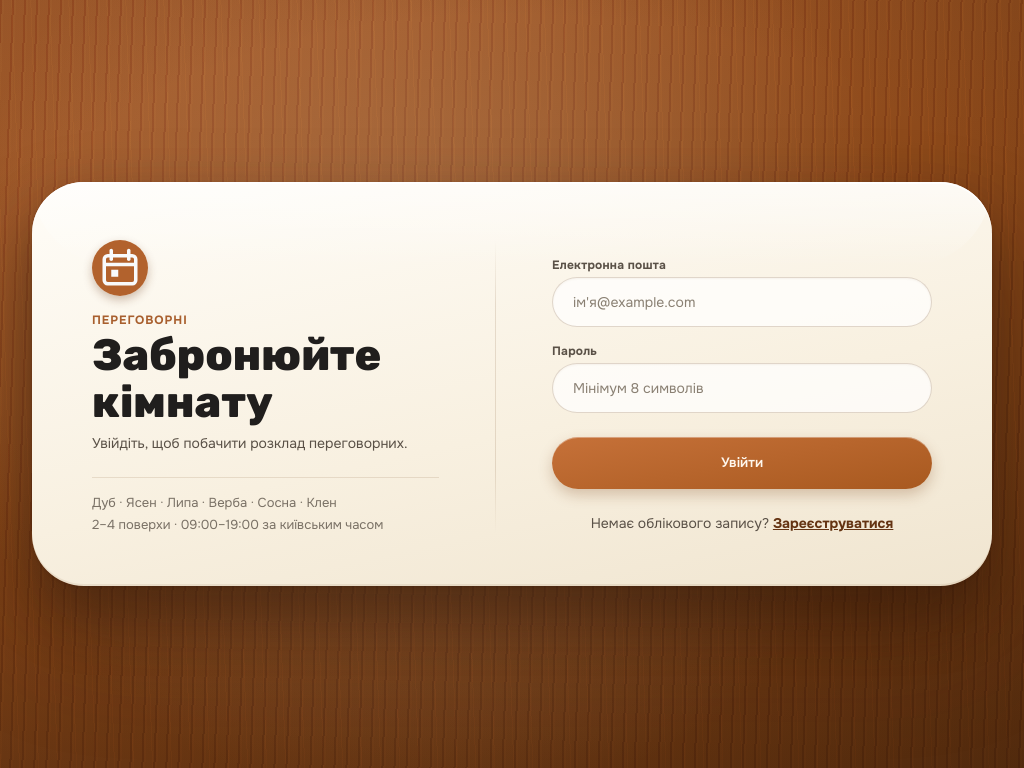
it: server-side errors › shows a 401 message as a form-level error rather than on a field
Type "ivan@example.com" into the field labelled "Електронна пошта" at (742,302), box [552,277,932,327]
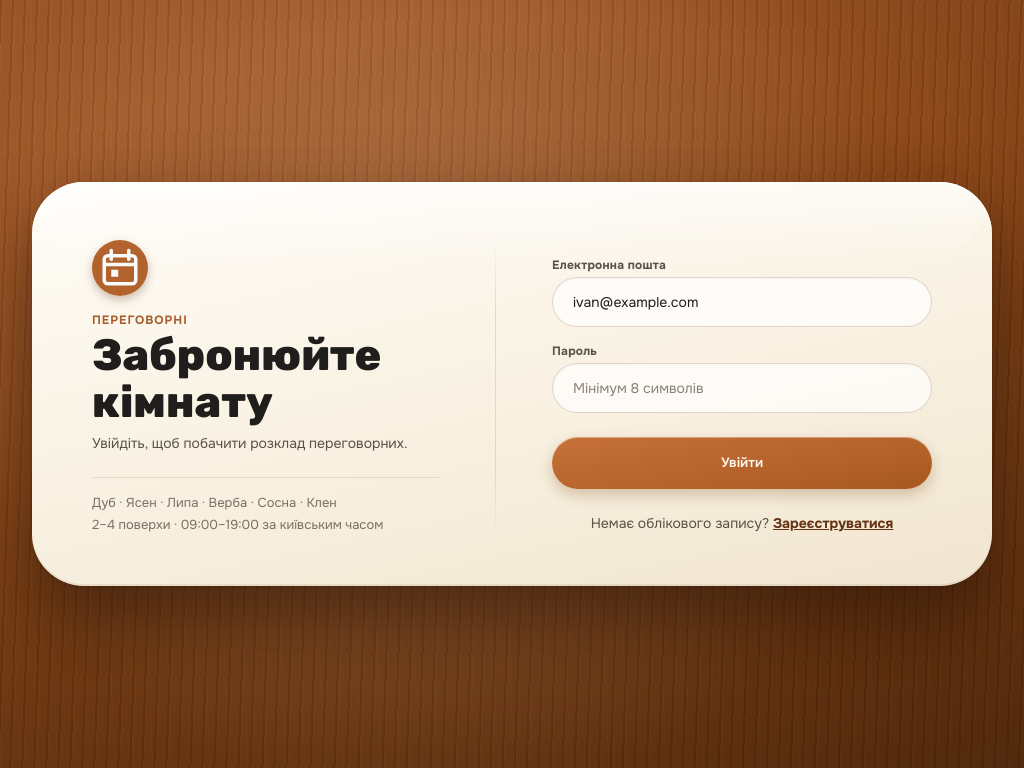
Type "super-secret" into the password field labelled "Пароль" at (742,388), box [552,363,932,413]
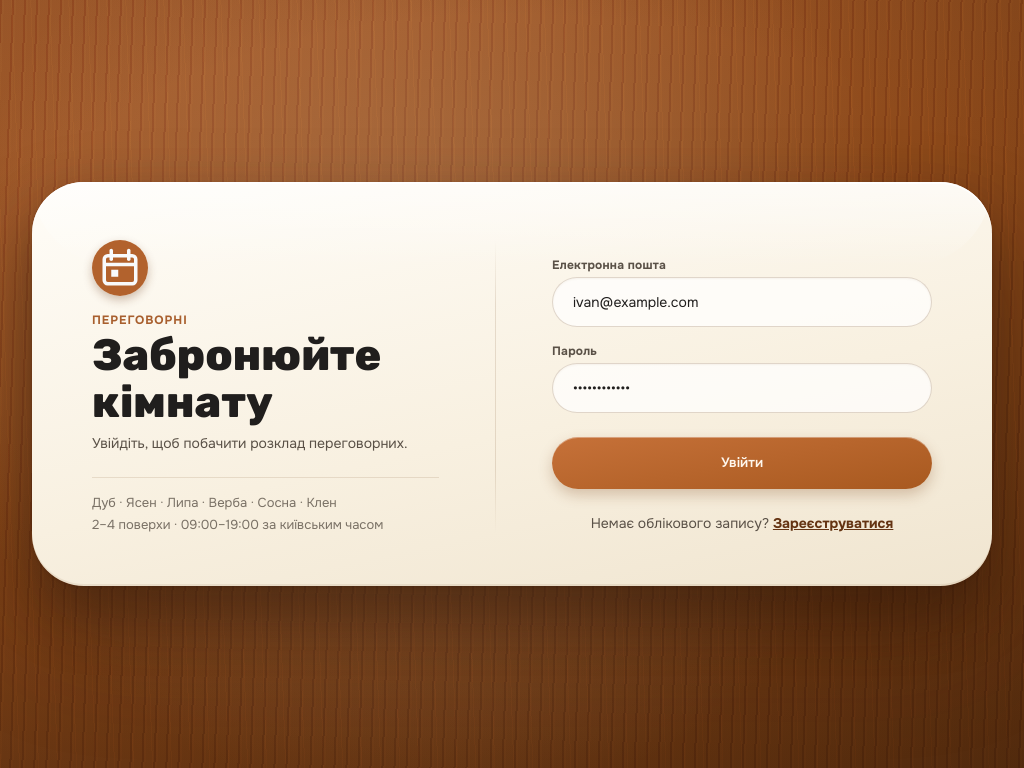
Click the button "Увійти" at (742,463), box [552,437,932,489]
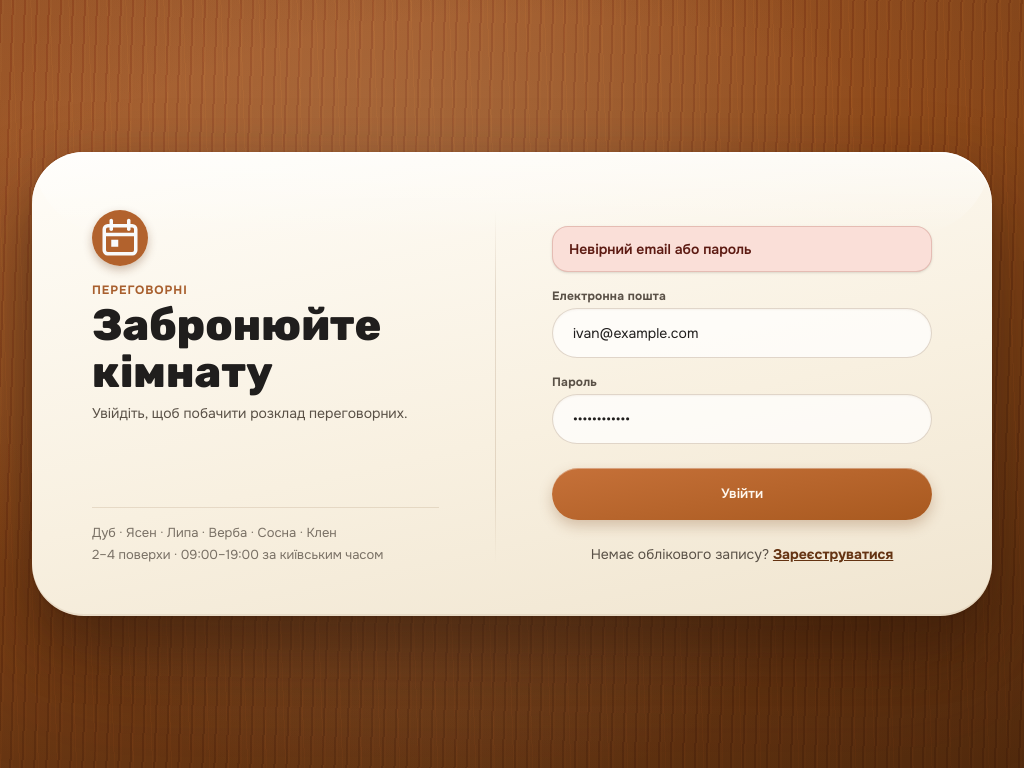
Result: the message "Невірний email або пароль" is shown at [552,226,932,272]
Result: the message reads "Невірний email або пароль" at [569,240,752,258]
